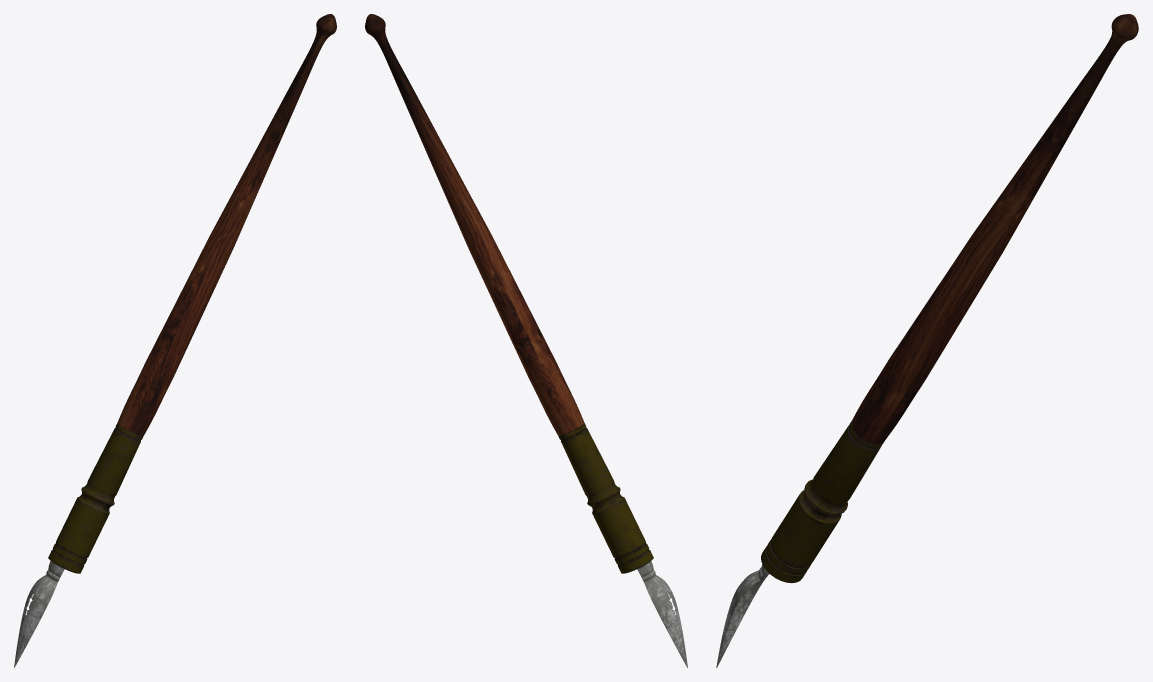
3 views of the same model, side by side, from view 1: azimuth 30°, elevation 25°; view 2: azimuth 150°, elevation 25°; view 3: azimuth 330°, elevation 25° (orthographic). The views are drawn at different scales.
Parts seen in each view (by area): view 1: Line002, Line003; view 2: Line002, Line003; view 3: Line002, Line003.
Part boxes in pixels (x1,y1,x2,y2): Line002: (48, 14, 336, 573); Line003: (14, 561, 64, 667); Line002: (365, 14, 653, 573); Line003: (637, 561, 687, 667); Line002: (761, 14, 1138, 583); Line003: (716, 564, 769, 667).
Size of the model in its own units: 105 by 181 by 10.36.
Materials: 2 (2 with a texture image).
